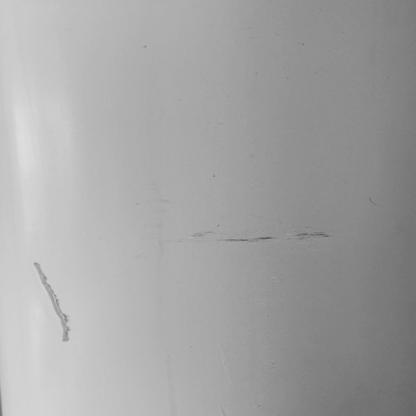sunshang: (28, 261, 74, 346), (184, 223, 335, 245)
